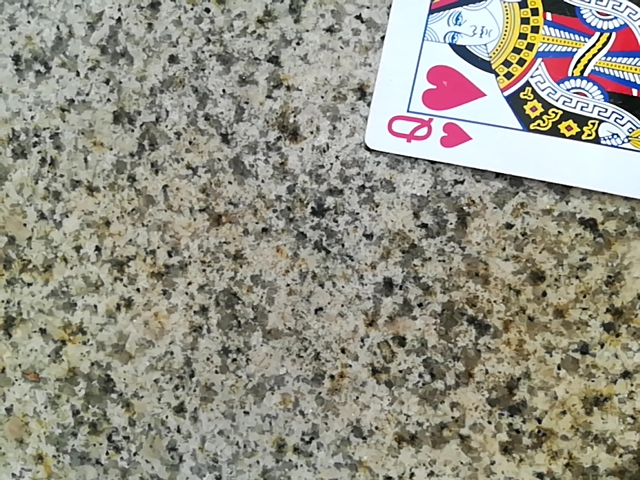hx q: (360, 0, 640, 227)
